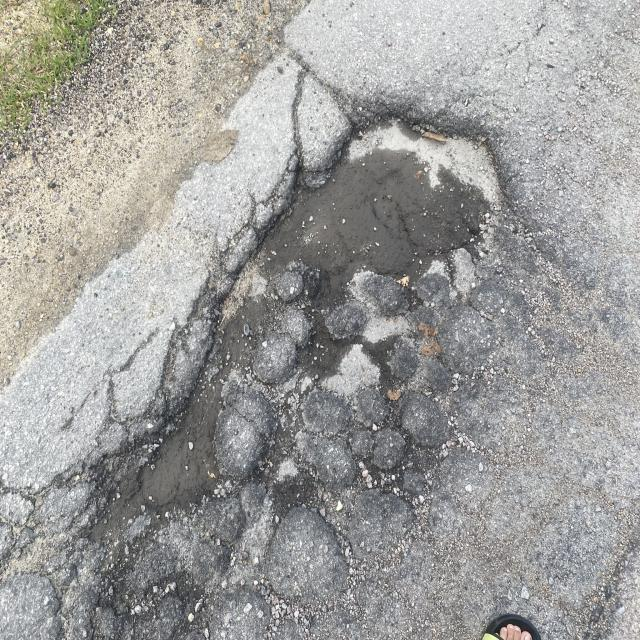pothole: (62, 63, 608, 546)
